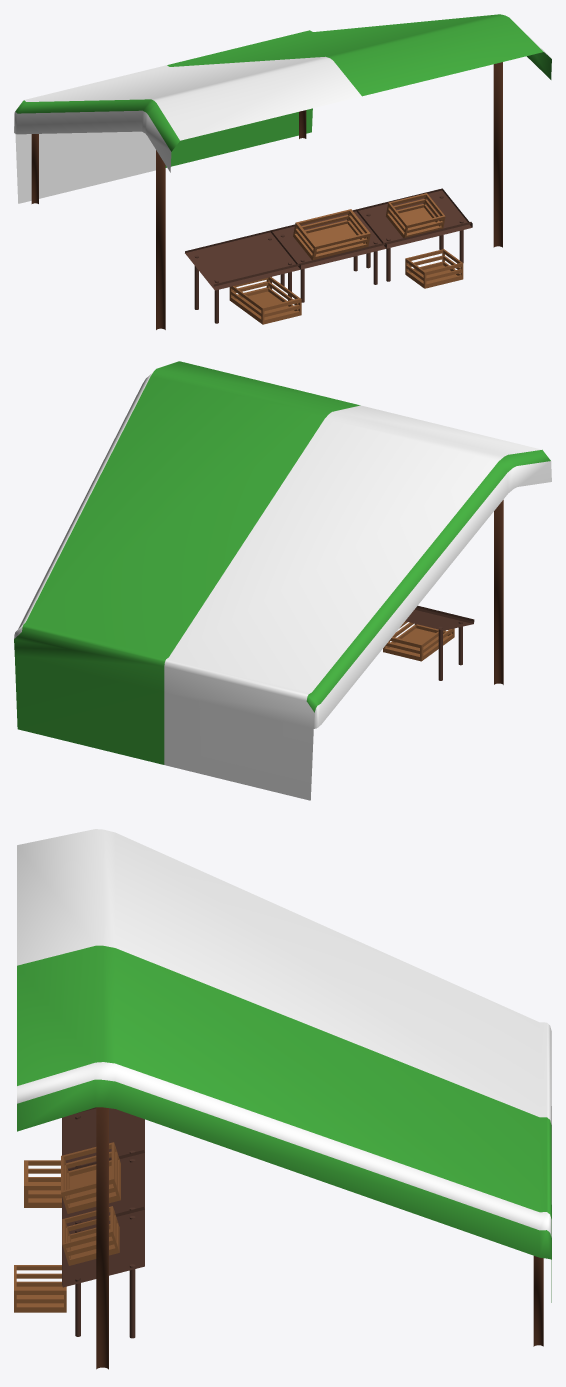
File: stand_v_1.fbx
3 views of the same model, one above another, from view 1: azimuth 30°, elevation 25°; view 2: azimuth 150°, elevation 25°; view 3: azimuth 270°, elevation 25° (orthographic). The views are drawn at different scales.
Visible parts, largest first — view 1: Cube.005; view 2: Cube.005; view 3: Cube.005.
Part boxes in pixels (<box>): Cube.005: <box>14,14,551,329</box>; Cube.005: <box>14,361,551,800</box>; Cube.005: <box>14,829,551,1369</box>.
Bounding box in the file's own units: 1364 × 791 × 1227.
